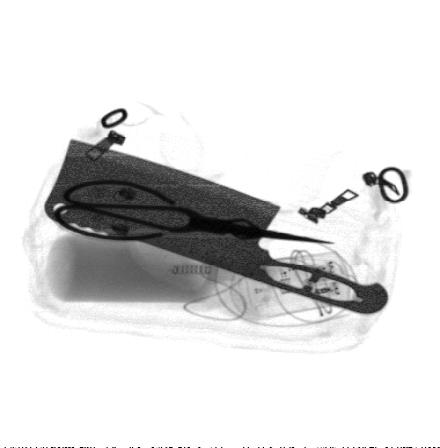Knife: (40, 139, 390, 316)
Scissors: (50, 179, 331, 244)
